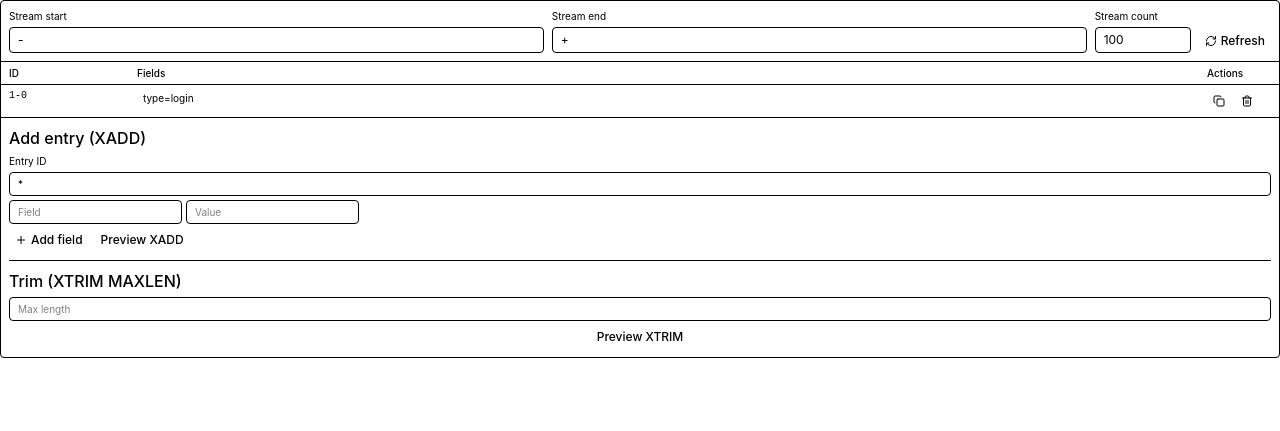
Test: KvStreamReaderPanel write surface › copies an entry's fields into the XADD add form with a fresh * id
Click the button named "Copy entry 1-0 into add form" at coordinates (1219, 101), box [1207,89,1231,113]
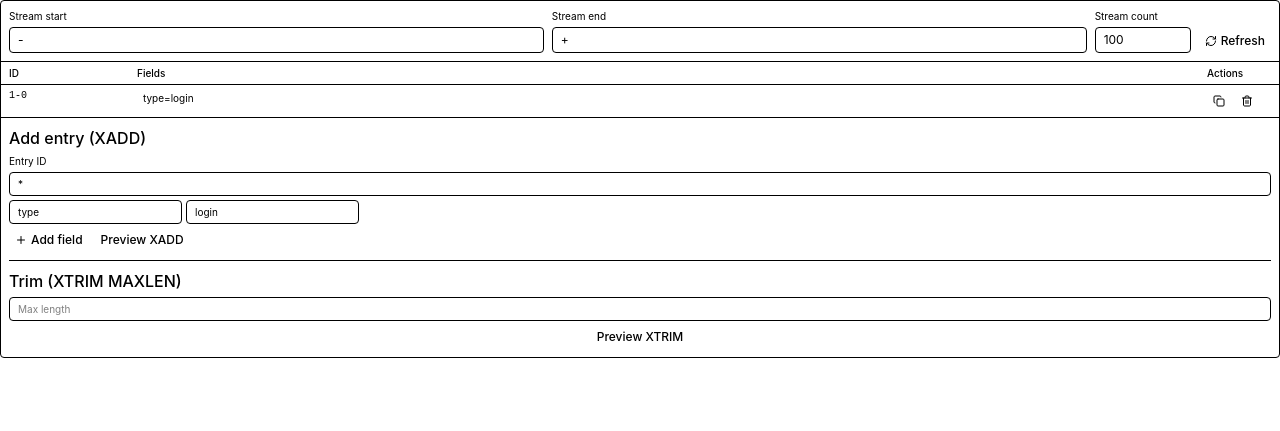
Check: the field labelled "Entry ID" holds "*", box [9,172,1271,196]
Check: the field named "Field" holds "type", box [9,200,182,224]
Check: the field named "Value" holds "login", box [186,200,359,224]
Click the button "Preview XADD" at coordinates (142, 240), box [93,228,192,252]
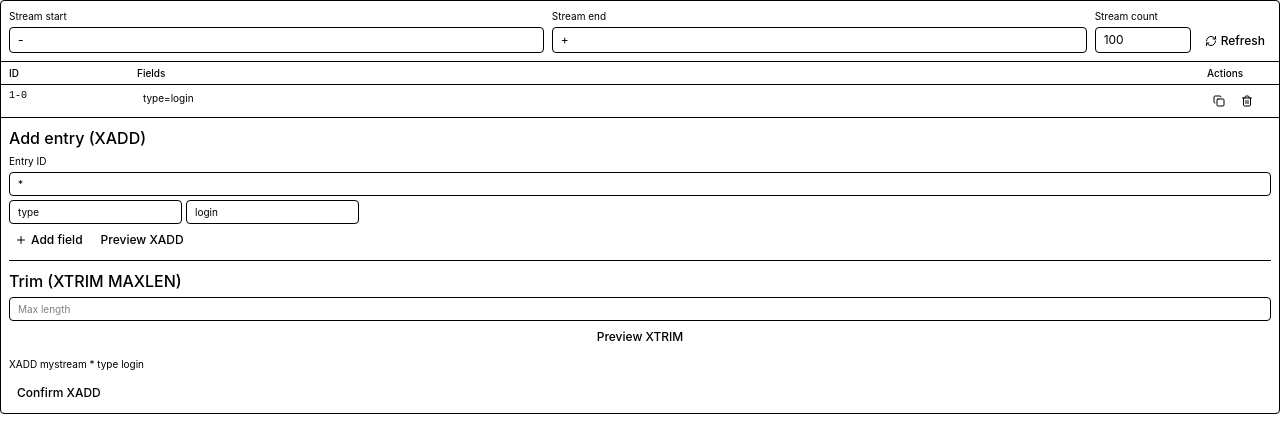
Check: the message reads "XADD mystream * type login", box [9,358,144,370]
